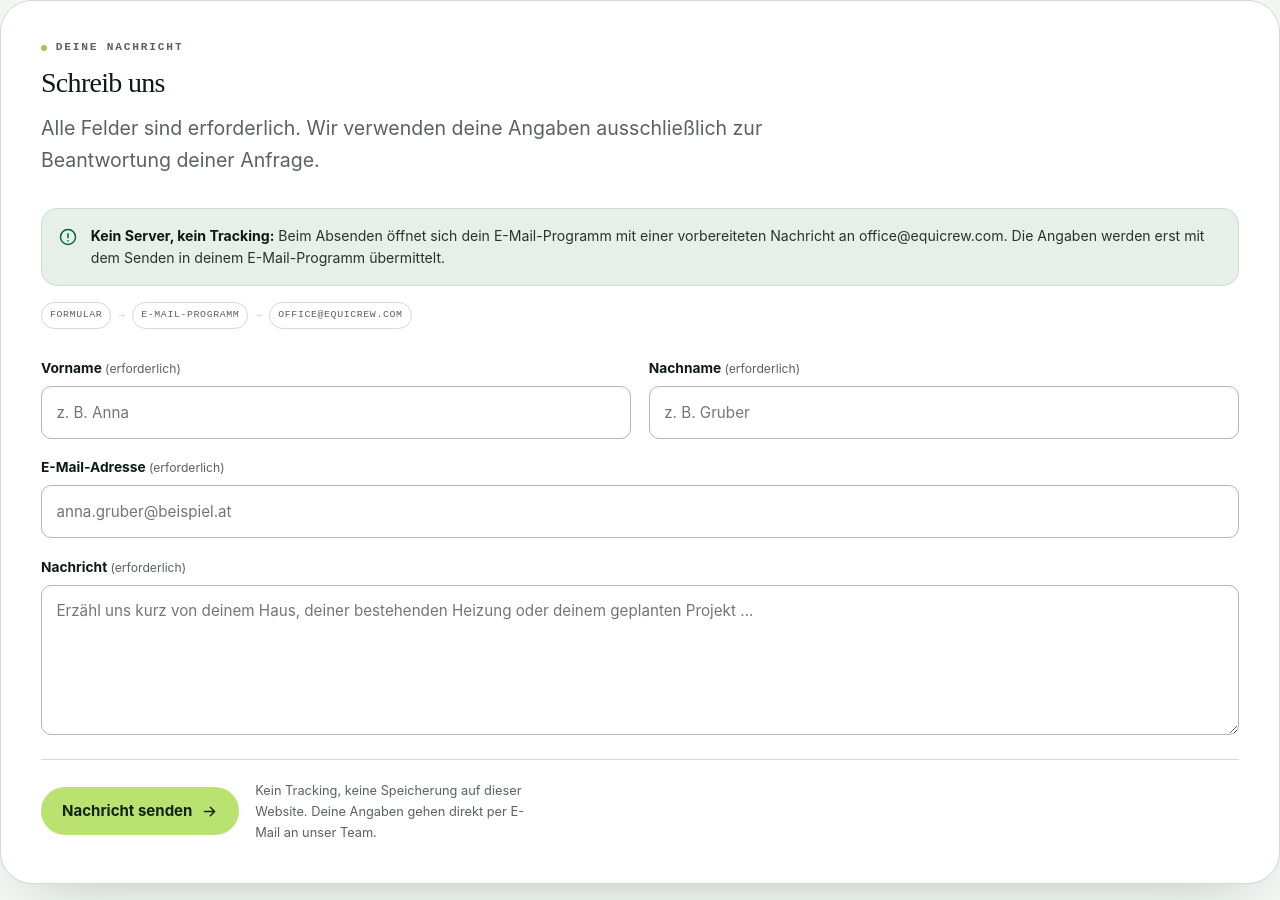
Test case: ContactForm › shows an error after a field was typed into and emptied again
In the field labelled "Vorname (erforderlich)": coordinates (336, 412) [41, 386, 631, 439], type "Anna"
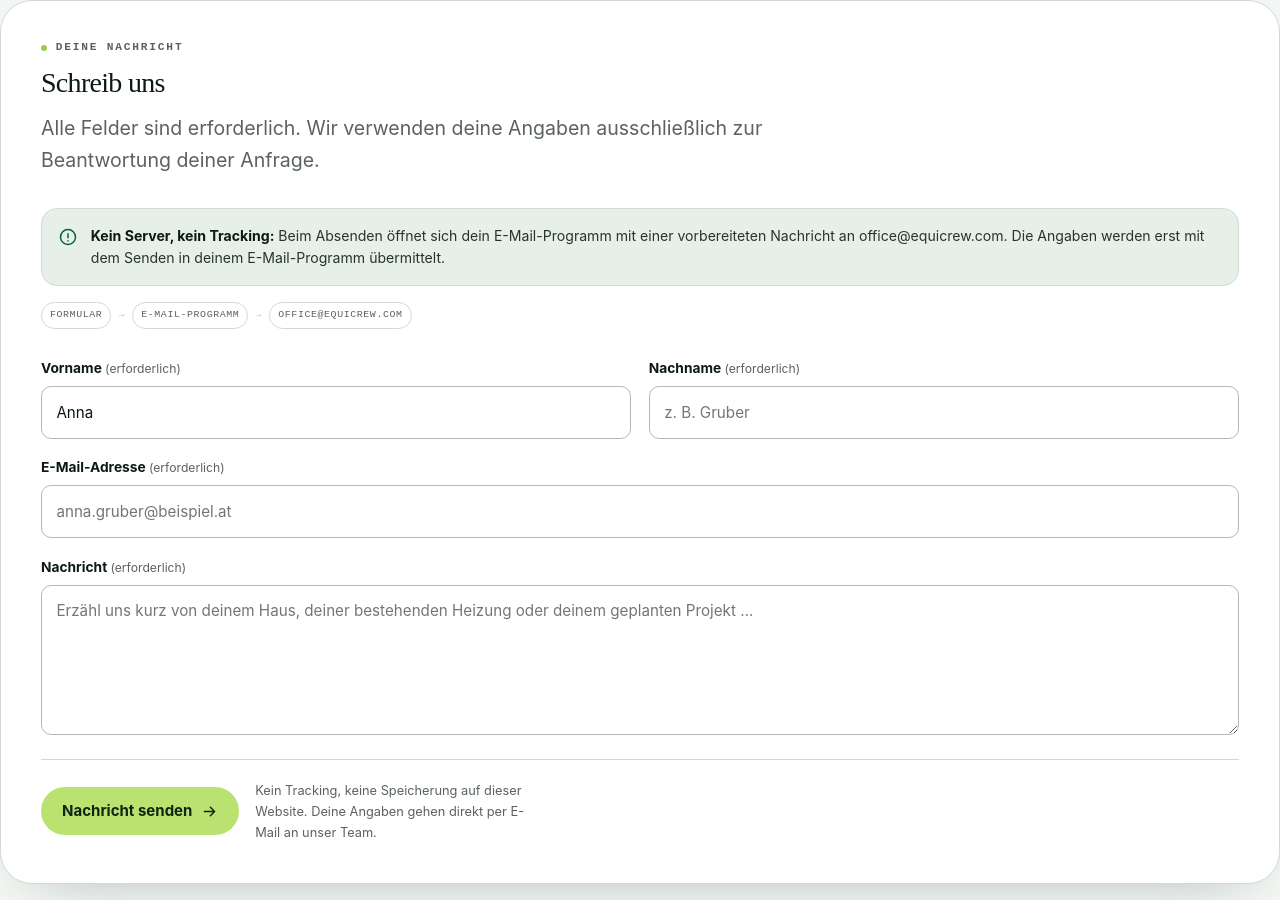
Expected: the text "Bitte gib deinen Vornamen ein." is not shown
Clear the field labelled "Vorname (erforderlich)": coordinates (336, 412) [41, 386, 631, 439]
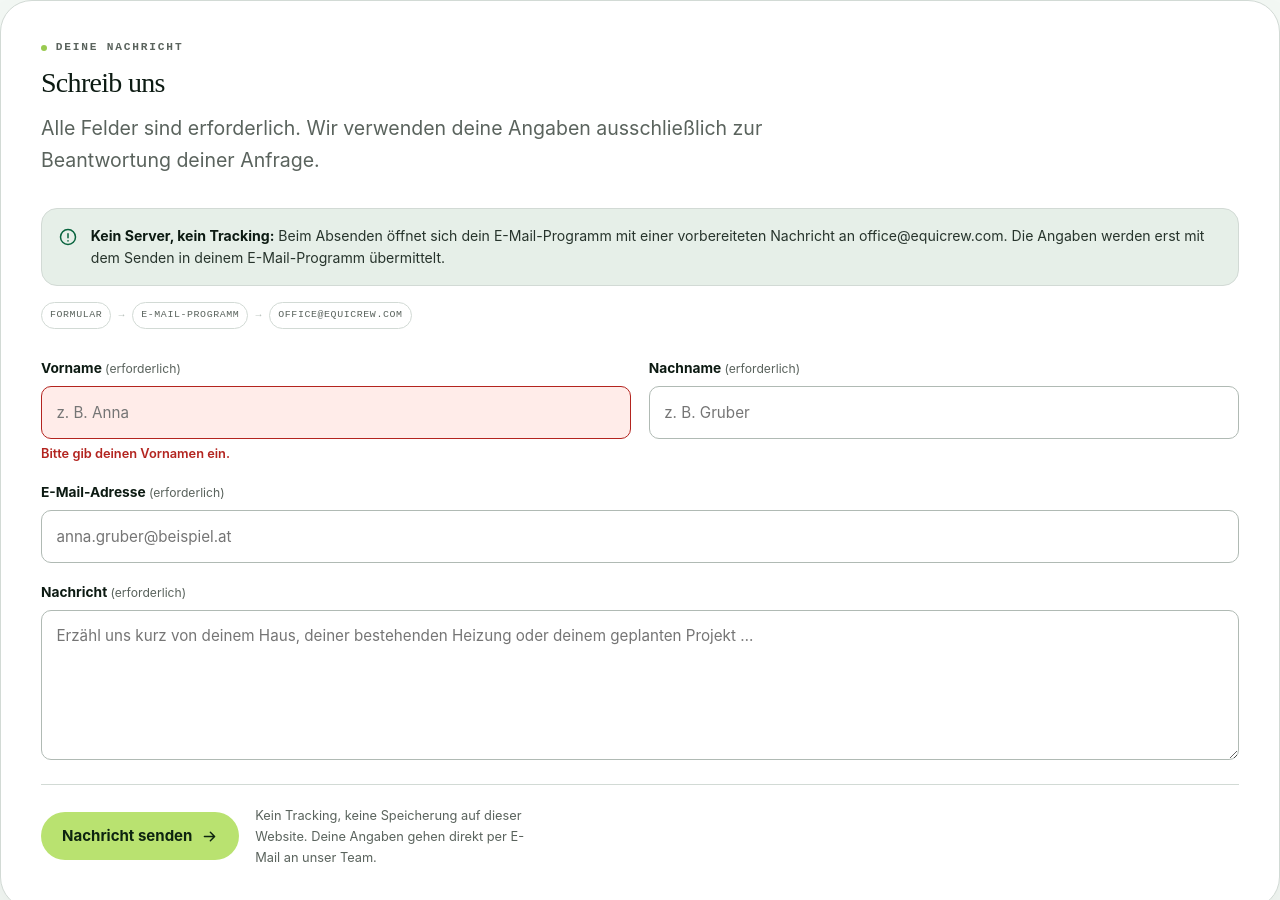
Expected: the text "Bitte gib deinen Vornamen ein." is shown, [41, 446, 230, 461]
